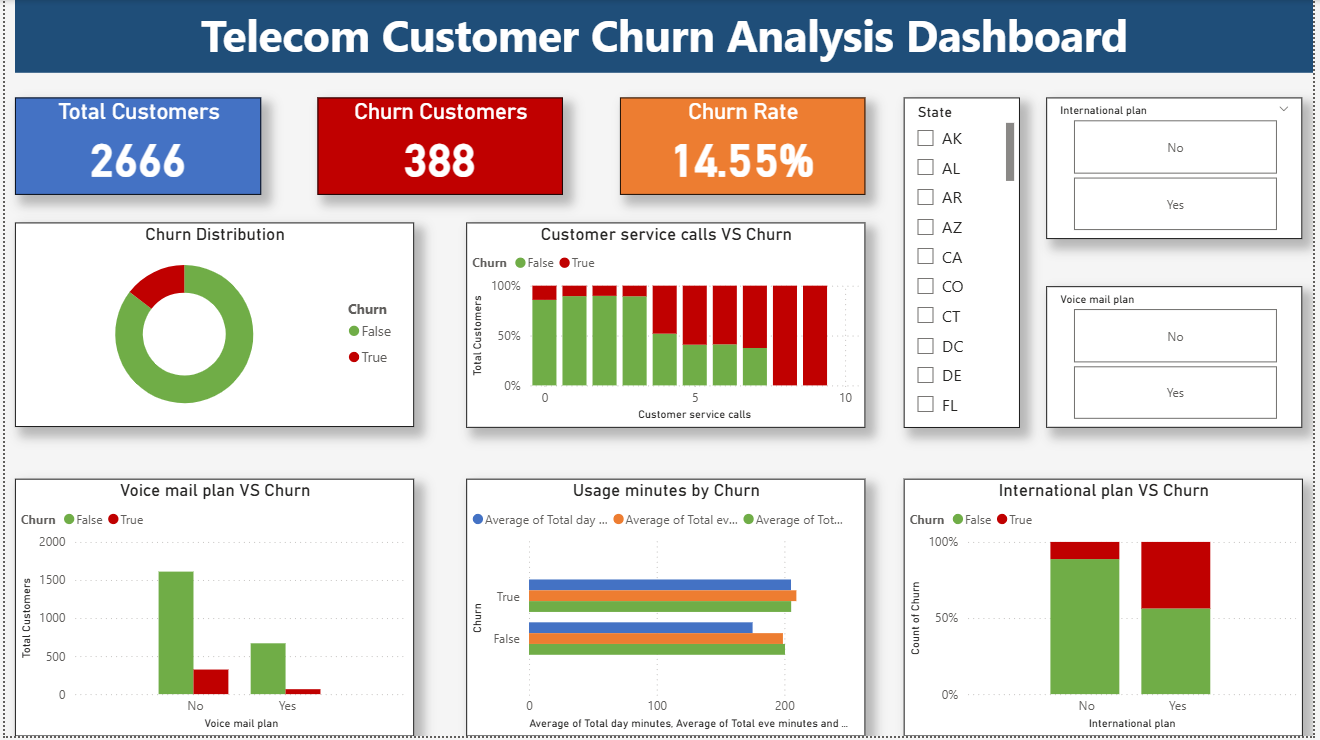

The page's visual inventory and layout, read from the dashboard file:
{"tool":"powerbi","page":{"name":"Page 1","canvas":[1280,720],"ordinal":0},"visuals":[{"type":"textbox","box":[9.8,0,1270.5,70.9],"z":0},{"type":"card","title":"Churn Customers","fields":{"Values":["All Measures.Churn Customers"]},"box":[305.7,95.4,239.7,95.4],"z":1000},{"type":"card","title":"Churn Rate","fields":{"Values":["All Measures.Churn Rate"]},"box":[601.6,95.4,239.7,95.4],"z":2000},{"type":"card","title":"Total Customers","fields":{"Values":["All Measures.Total Customers"]},"box":[9.8,95.4,240.9,95.4],"z":3000},{"type":"donutChart","title":"Churn Distribution","fields":{"Y":["CountNonNull(Telecom_Churn.Churn)"],"Category":["Telecom_Churn.Churn"]},"box":[9.8,217.7,390,200],"z":4000},{"type":"hundredPercentStackedColumnChart","title":"International plan VS Churn","fields":{"Category":["Telecom_Churn.International plan"],"Series":["Telecom_Churn.Churn"],"Y":["CountNonNull(Telecom_Churn.Churn)"]},"box":[879.2,468.3,390.1,251.9],"z":5000},{"type":"clusteredColumnChart","title":"Voice mail plan VS Churn","fields":{"Category":["Telecom_Churn.Voice mail plan"],"Series":["Telecom_Churn.Churn"],"Y":["All Measures.Total Customers"]},"box":[9.8,468.3,390.1,251.9],"z":6000},{"type":"hundredPercentStackedColumnChart","title":"Customer service calls VS Churn","fields":{"Category":["Telecom_Churn.Customer service calls"],"Series":["Telecom_Churn.Churn"],"Y":["All Measures.Total Customers"]},"box":[451.2,217.7,390.1,200.5],"z":7000},{"type":"clusteredBarChart","title":"Usage minutes by Churn","fields":{"Category":["Telecom_Churn.Churn"],"Y":["Avg(Telecom_Churn.Total day minutes)","Avg(Telecom_Churn.Total eve minutes)","Avg(Telecom_Churn.Total night minutes)"]},"box":[451.2,468.3,390.1,251.9],"z":8000},{"type":"slicer","fields":{"Values":["Telecom_Churn.State"]},"box":[879.2,95.4,113.7,322.8],"z":9000},{"type":"slicer","fields":{"Values":["Telecom_Churn.International plan"]},"box":[1018.6,95.4,250.7,138.2],"z":10000},{"type":"slicer","fields":{"Values":["Telecom_Churn.Voice mail plan"]},"box":[1018.6,280,250.7,138.2],"z":11000}]}

Visuals, with their boxes in screenshot pixels (x1, y1, x2, y2), scaled from the page's 1280x720 canvas onto the 1320x740 screenshot:
textbox: <box>10,0,1319,73</box>
"Churn Customers" card: <box>315,98,562,196</box>
"Churn Rate" card: <box>620,98,868,196</box>
"Total Customers" card: <box>10,98,259,196</box>
"Churn Distribution" donutChart: <box>10,224,412,429</box>
"International plan VS Churn" hundredPercentStackedColumnChart: <box>907,481,1309,739</box>
"Voice mail plan VS Churn" clusteredColumnChart: <box>10,481,412,739</box>
"Customer service calls VS Churn" hundredPercentStackedColumnChart: <box>465,224,868,430</box>
"Usage minutes by Churn" clusteredBarChart: <box>465,481,868,739</box>
slicer - Telecom_Churn.State: <box>907,98,1024,430</box>
slicer - Telecom_Churn.International plan: <box>1050,98,1309,240</box>
slicer - Telecom_Churn.Voice mail plan: <box>1050,288,1309,430</box>
